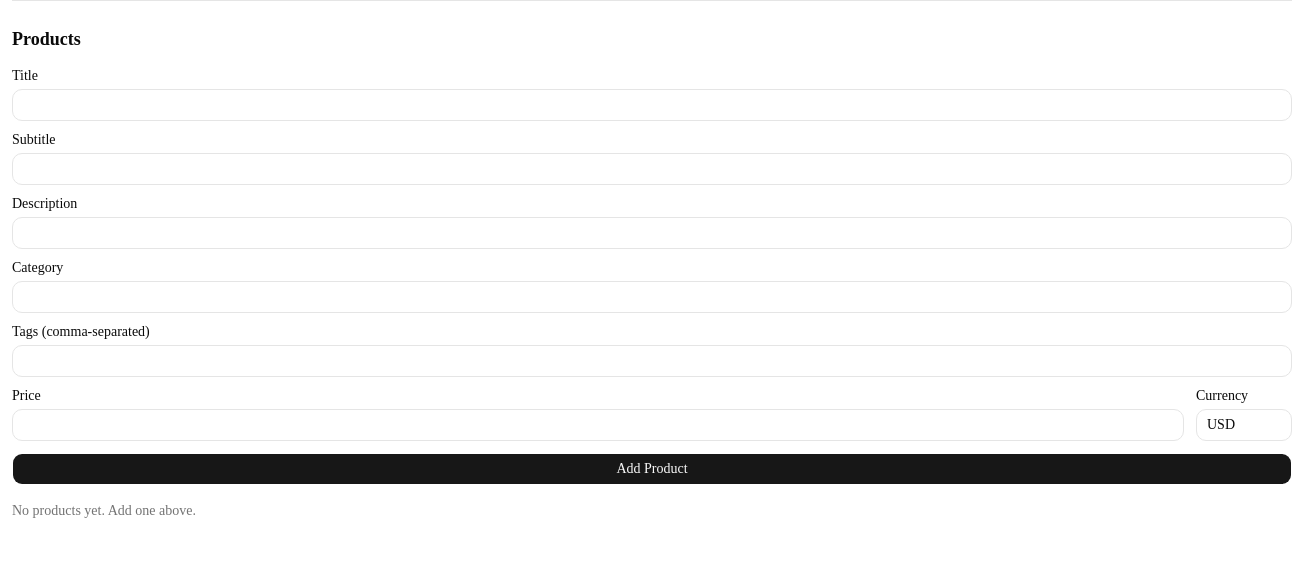
ProductIntelligenceSection › shows an error message when creating a product fails
expect the text "No products yet. Add one above." is shown: met, box [12,503,196,518]
Type "Bamboo Cutting Board" into the field labelled "Title".
click(652, 105); type("Bamboo Cutting Board")  # box [12,89,1292,121]
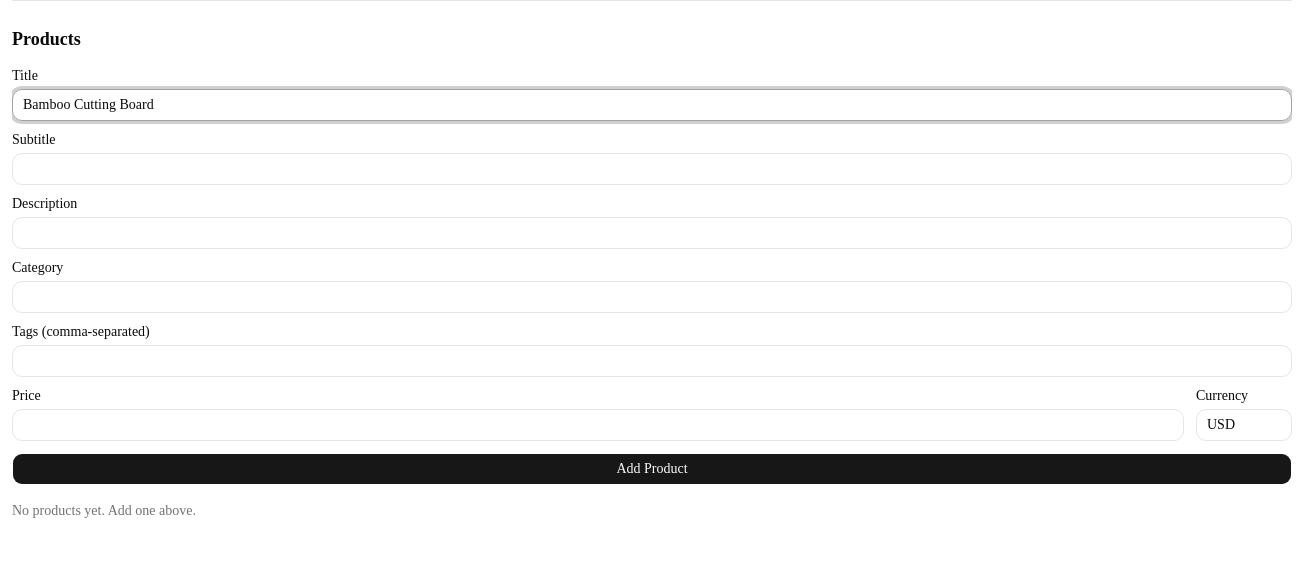
Click the button "Add Product".
click(652, 469)  # box [12,453,1292,485]
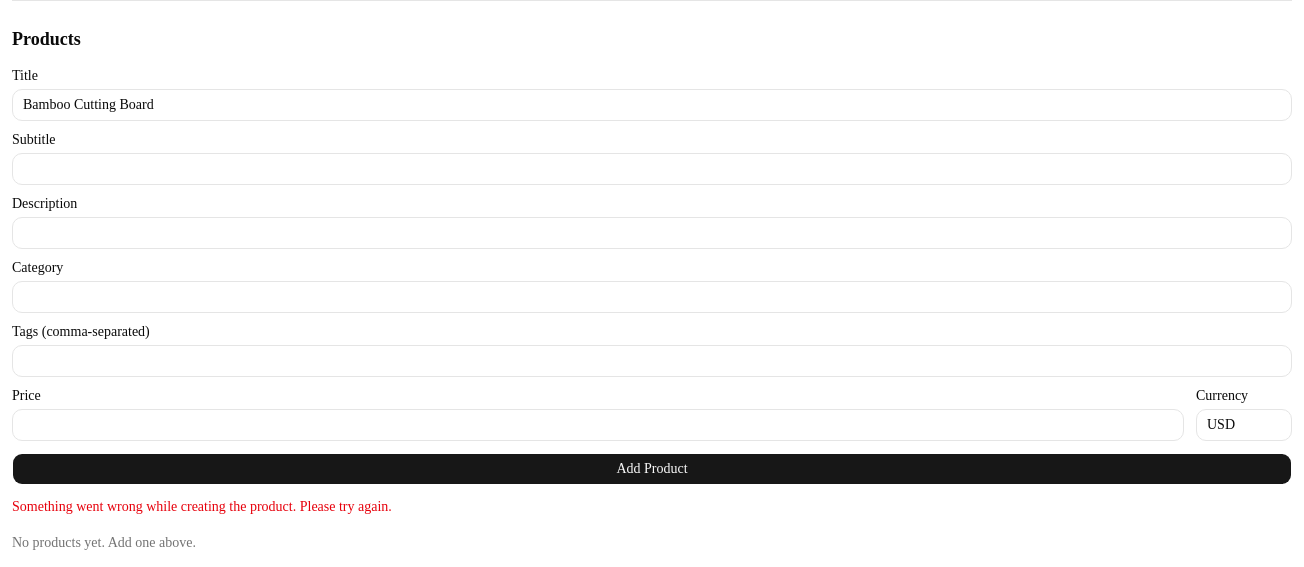
expect the message reads "Something went wrong while creating the product. Please try again.": met, box [12,499,392,514]
